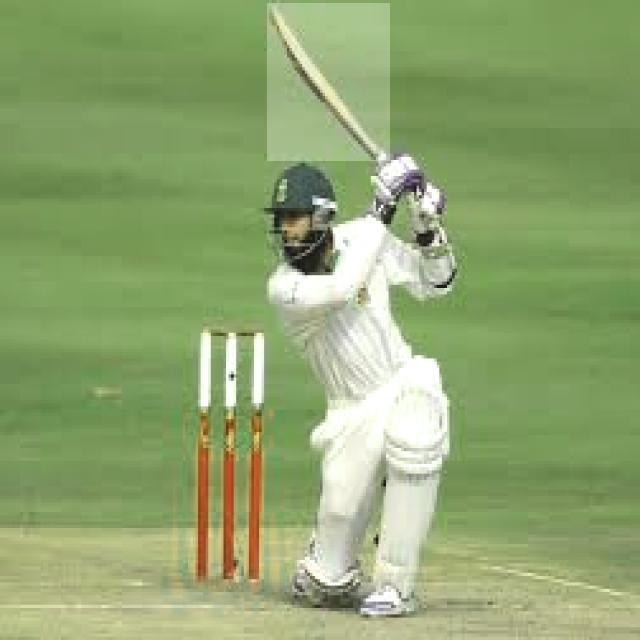bat: (266, 0, 392, 163)
toe: (265, 0, 285, 21)
